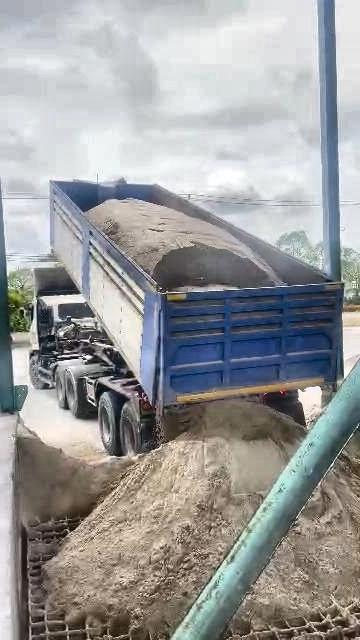sand: (46, 402, 304, 639), (230, 456, 360, 634), (86, 199, 282, 290), (15, 429, 131, 526), (345, 427, 360, 459)
